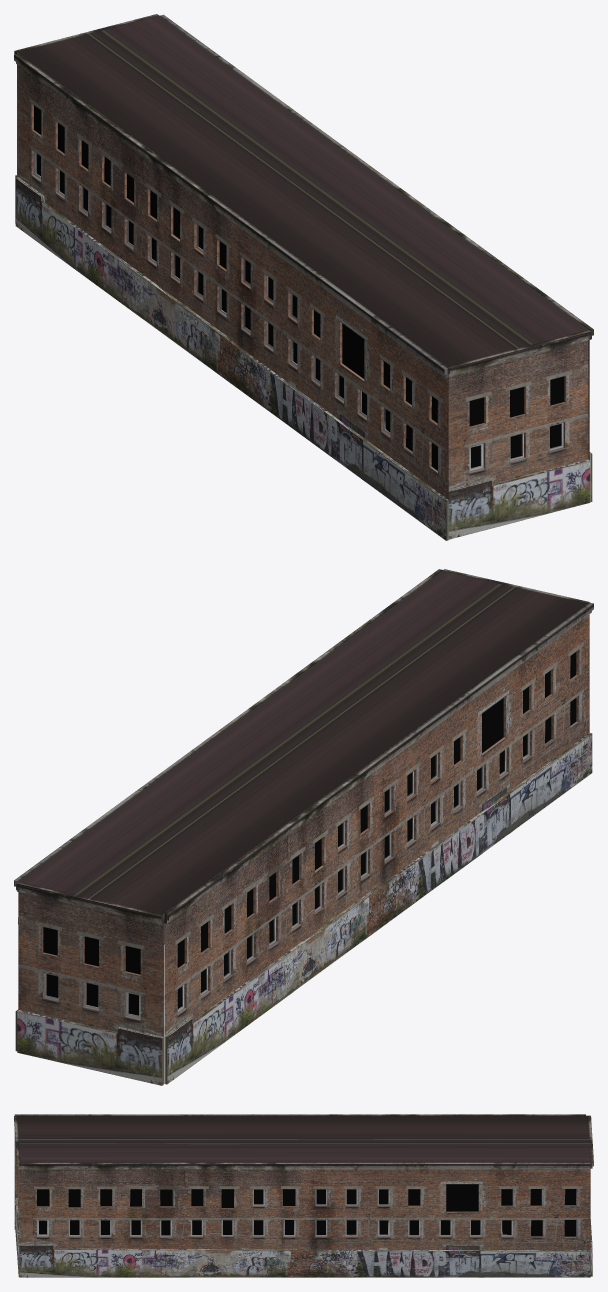
The model's file is EdificioLargoCompleto.fbx.
3 renders of one model, top to bottom at view 1: azimuth 30°, elevation 25°; view 2: azimuth 150°, elevation 25°; view 3: azimuth 270°, elevation 25°, orthographic. The views are drawn at different scales.
Parts seen in each view (by area): view 1: Plane.019; view 2: Plane.019; view 3: Plane.019.
Boxes of the visible parts, <box> form: Plane.019: <box>14,14,593,540</box>; Plane.019: <box>14,569,593,1085</box>; Plane.019: <box>14,1114,593,1277</box>.
Bounding box in the file's own units: 32.61 × 34.95 × 161.
Materials: 2 (1 with a texture image).
